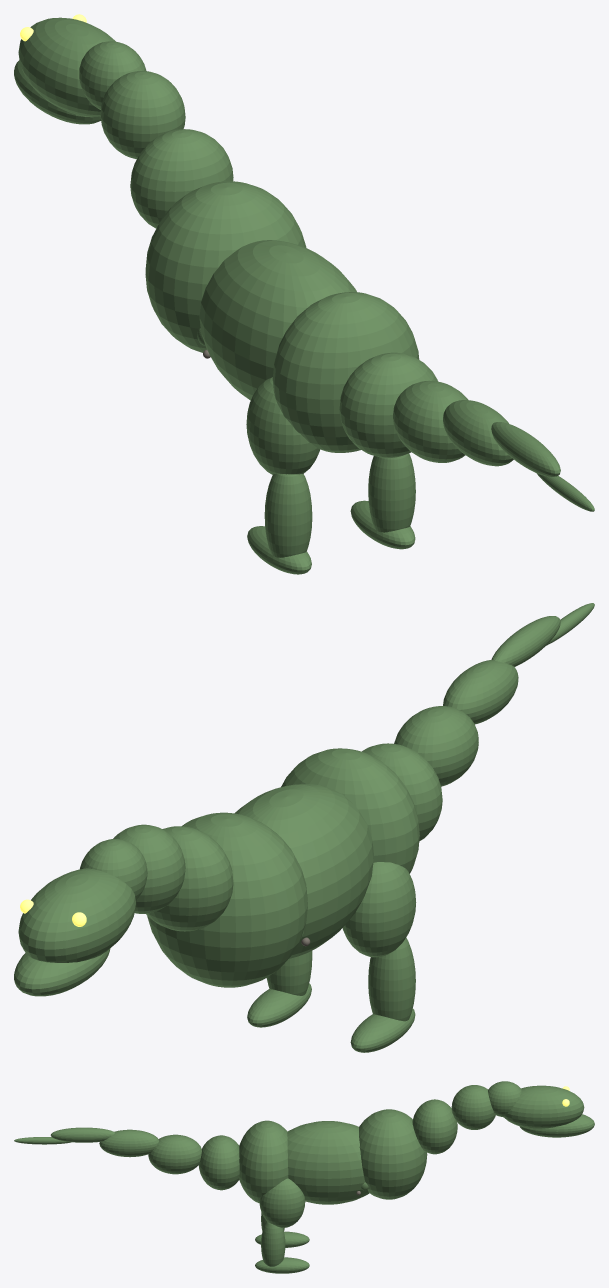
The model's file is trex_dinosaur.fbx.
3 renders of one model, top to bottom at view 1: azimuth 30°, elevation 25°; view 2: azimuth 150°, elevation 25°; view 3: azimuth 270°, elevation 25°, orthographic. The views are drawn at different scales.
Parts seen in each view (by area): view 1: Torso, Hip, Chest, Neck1, Tail1, Head, Neck2, Tail2, R_Thigh, R_Shin, L_Shin, Tail3 (+6 smaller); view 2: Chest, Torso, Head, Hip, Neck1, R_Thigh, Tail2, Neck2, Tail3, Tail1, R_Shin, LowerJaw (+6 smaller); view 3: Torso, Chest, Hip, Head, Neck1, Tail1, Tail2, L_Thigh, Neck2, Tail3, L_Shin, Neck3 (+5 smaller).
Boxes of the visible parts, left/top/right/bottom form: Torso: left=199, top=240, right=356, bottom=400; Hip: left=272, top=292, right=419, bottom=452; Chest: left=145, top=181, right=306, bottom=352; Neck1: left=130, top=129, right=233, bottom=228; Tail1: left=339, top=352, right=437, bottom=457; Head: left=18, top=17, right=115, bottom=116; Neck2: left=100, top=71, right=185, bottom=159; Tail2: left=393, top=380, right=468, bottom=462; R_Thigh: left=246, top=377, right=319, bottom=474; R_Shin: left=264, top=473, right=312, bottom=557; L_Shin: left=368, top=453, right=415, bottom=532; Tail3: left=443, top=400, right=513, bottom=466; Chest: left=147, top=812, right=307, bottom=987; Torso: left=235, top=784, right=373, bottom=958; Head: left=18, top=868, right=135, bottom=962; Hip: left=281, top=748, right=419, bottom=873; Neck1: left=146, top=826, right=233, bottom=931; R_Thigh: left=342, top=862, right=416, bottom=957; Tail2: left=394, top=706, right=478, bottom=786; Neck2: left=113, top=824, right=185, bottom=913; Tail3: left=443, top=660, right=518, bottom=724; Tail1: left=362, top=743, right=442, bottom=841; R_Shin: left=368, top=937, right=415, bottom=1021; LowerJaw: left=14, top=948, right=110, bottom=996; Torso: left=287, top=1121, right=369, bottom=1204; Chest: left=359, top=1109, right=427, bottom=1199; Hip: left=239, top=1120, right=288, bottom=1203; Head: left=503, top=1085, right=584, bottom=1128; Neck1: left=412, top=1099, right=457, bottom=1154; Tail1: left=198, top=1135, right=239, bottom=1190; Tail2: left=148, top=1134, right=201, bottom=1174; L_Thigh: left=259, top=1178, right=305, bottom=1227; Neck2: left=451, top=1085, right=495, bottom=1129; Tail3: left=99, top=1129, right=158, bottom=1157; L_Shin: left=261, top=1221, right=285, bottom=1266; Neck3: left=488, top=1081, right=521, bottom=1117.
Size of the model in its own units: 3 by 6.4 by 19.05.
